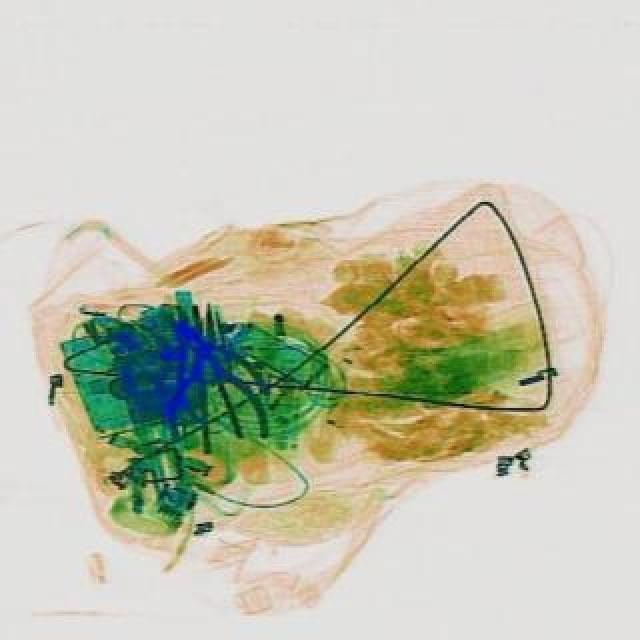wrench: (132, 288, 266, 428), (152, 298, 266, 448)
